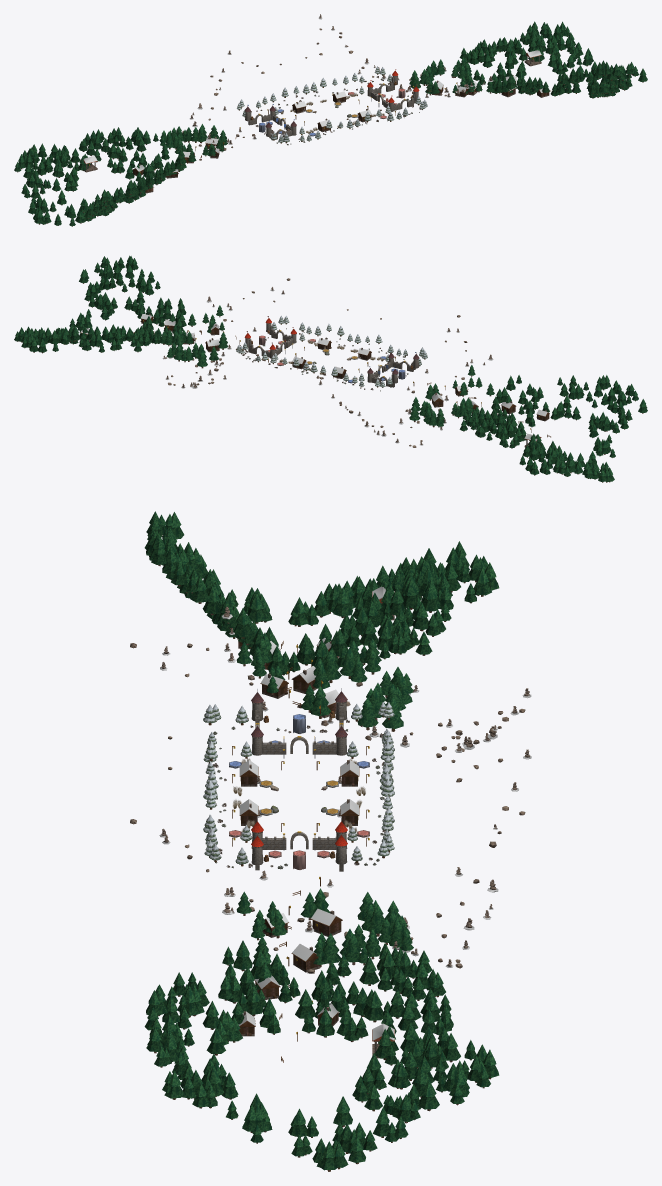
Rendered from mere.glb.
3 renders of one model, top to bottom at view 1: azimuth 30°, elevation 25°; view 2: azimuth 150°, elevation 25°; view 3: azimuth 270°, elevation 25°, orthographic. The views are drawn at different scales.
Parts seen in each view (by area): view 1: Props; view 2: Props; view 3: Props.
Part boxes in pixels (x1,y1,x2,y2): Props: (14, 14, 647, 226); Props: (14, 255, 647, 482); Props: (130, 511, 531, 1171).
Size of the model in its own units: 302 by 46.87 by 90.94.
Materials: 17 (17 with a texture image).
